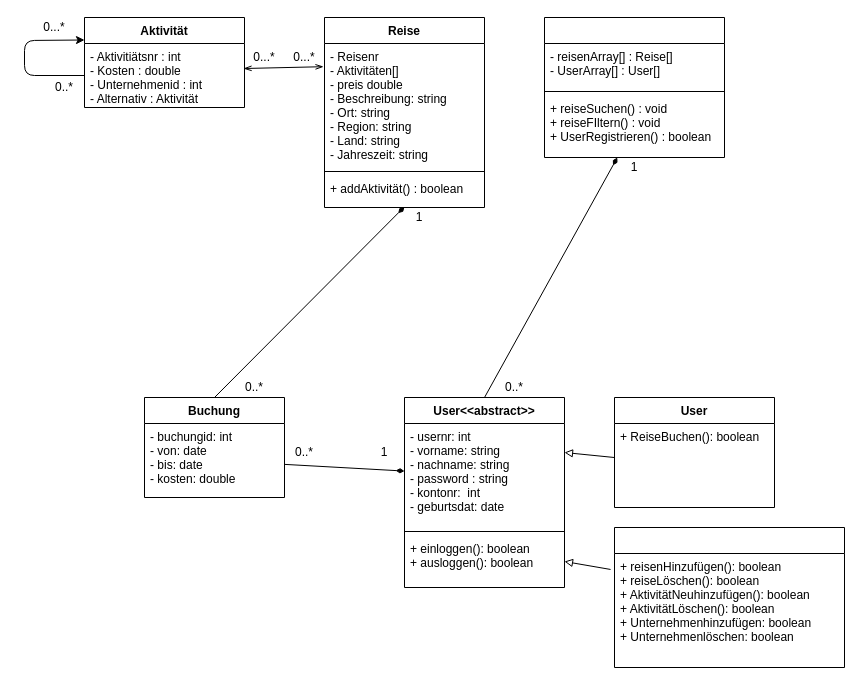
Some shapes in this 862 by 688 pixel diagram are drawn without their labels. Here are the shapes that lost their labels. From the top down, the box of each, then its label:
(544, 16, 724, 158): Reiseportal
(614, 526, 844, 668): Admin
